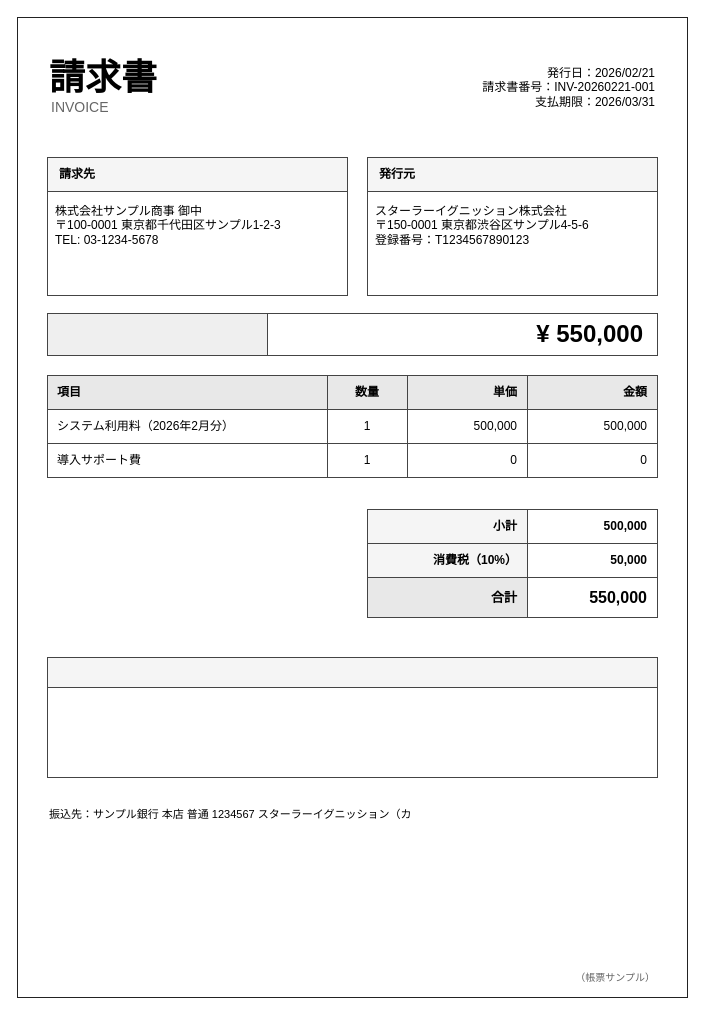
The diagram is 705 pixels wide and 1015 high, and some of its shapes have lost their labels. Each missing label, with the centre of its shape:
・お振込手数料は貴社ご負担にてお願いいたします。 ・本請求に関するお問い合わせ：billing@example.co.jp: the point at 352,732
備考: the point at 352,672
請求金額（税込）: the point at 157,334
